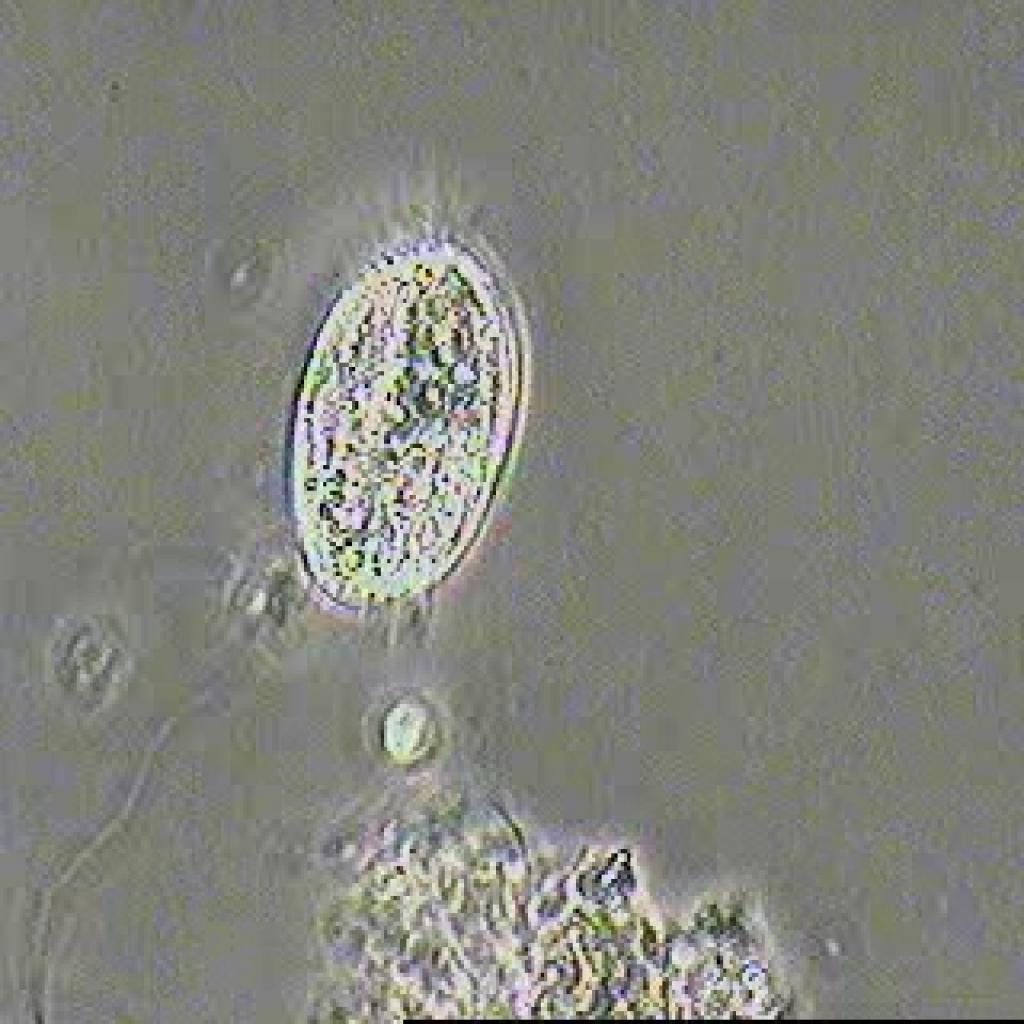Chilodonella: (195, 143, 541, 646)
